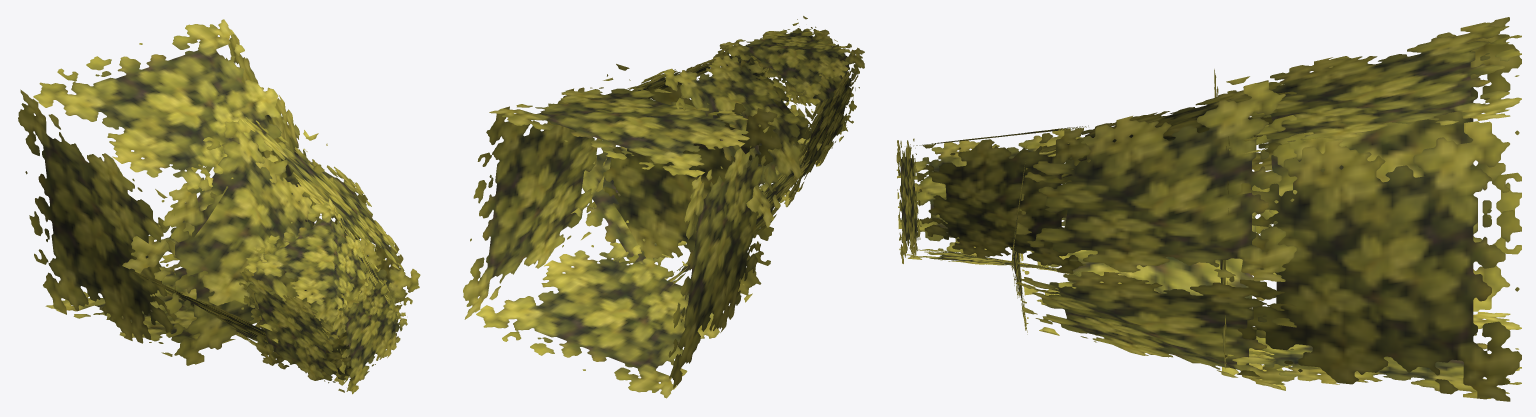
The model's file is keep-tall-olive.obj.
3 renders of one model, left to right at view 1: azimuth 30°, elevation 25°; view 2: azimuth 150°, elevation 25°; view 3: azimuth 270°, elevation 25°, orthographic. The views are drawn at different scales.
Size of the model in its own units: 0.7483 by 0.7103 by 1.28.
Materials: 1 (1 with a texture image).
